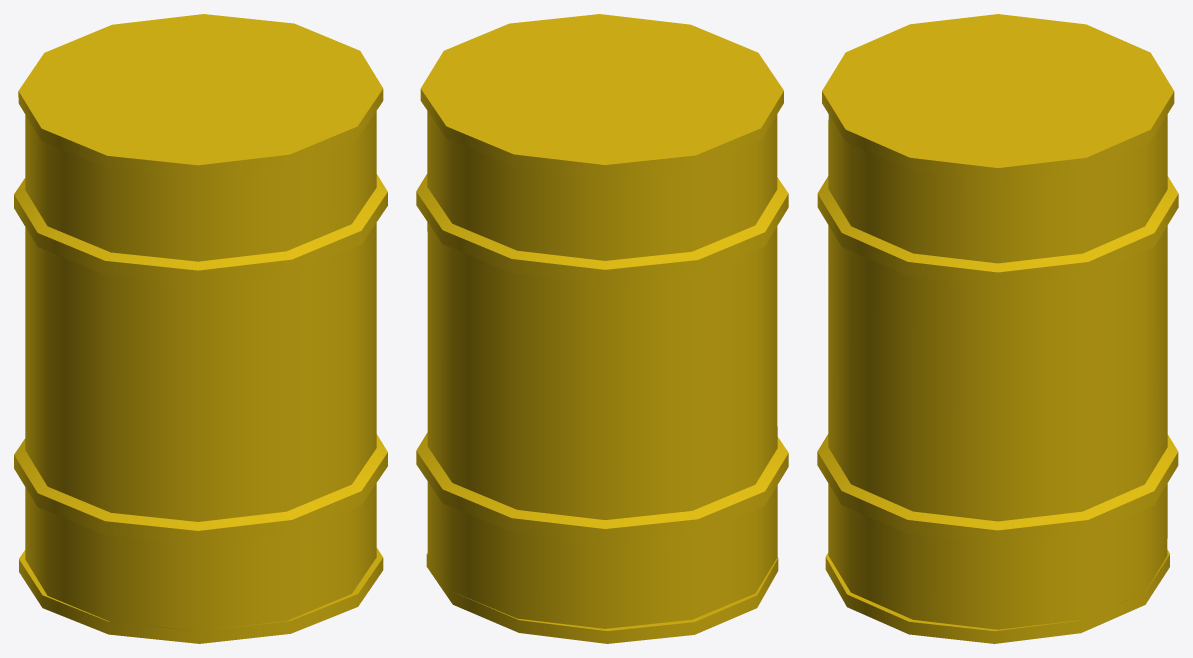
Rendered from Parts_Oil Barrel.fbx.
3 views of the same model, side by side, from view 1: azimuth 30°, elevation 25°; view 2: azimuth 150°, elevation 25°; view 3: azimuth 270°, elevation 25° (orthographic).
Visible parts, largest first — view 1: Cylinder011; view 2: Cylinder011; view 3: Cylinder011.
Part boxes in pixels (left/top/right/bottom): Cylinder011: left=14, top=14, right=387, bottom=643; Cylinder011: left=416, top=14, right=788, bottom=643; Cylinder011: left=817, top=14, right=1178, bottom=643.
Bounding box in the file's own units: 22.95 × 32.33 × 22.17.
